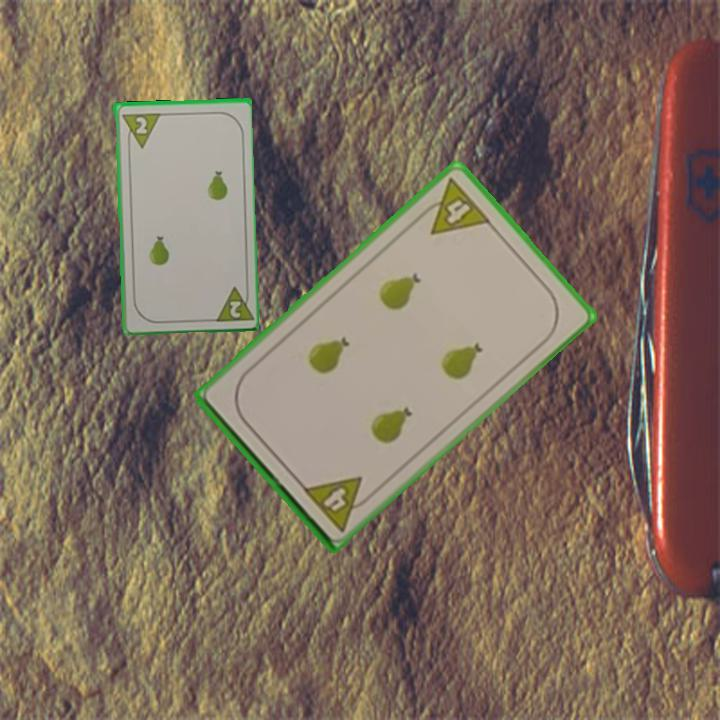2p: (209, 282, 254, 324), (118, 109, 161, 151)
4p: (413, 173, 494, 238), (299, 472, 377, 534)
